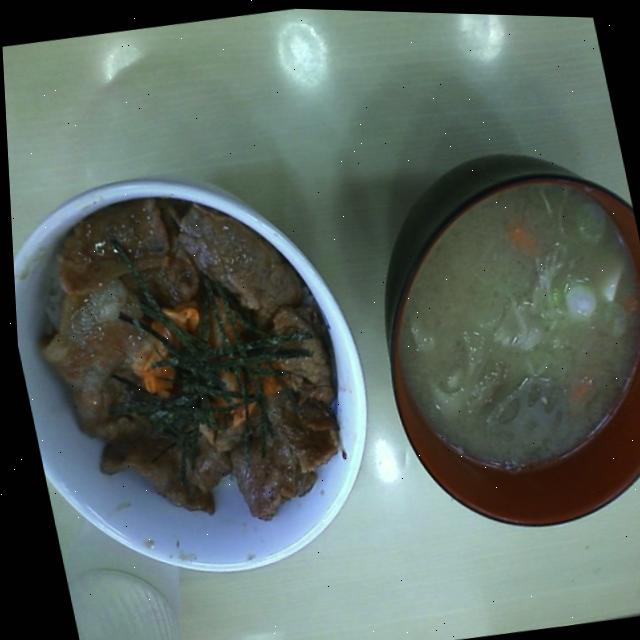蔬菜料理: (361, 145, 640, 493)
